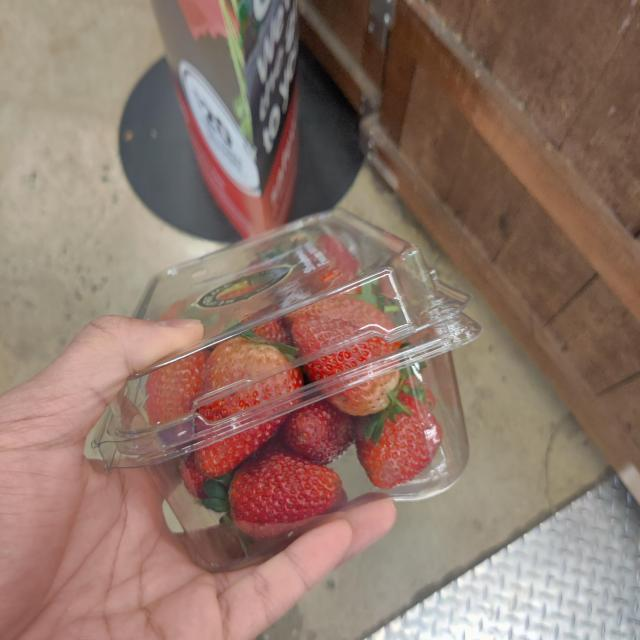Strawberry: (105, 209, 481, 553)
